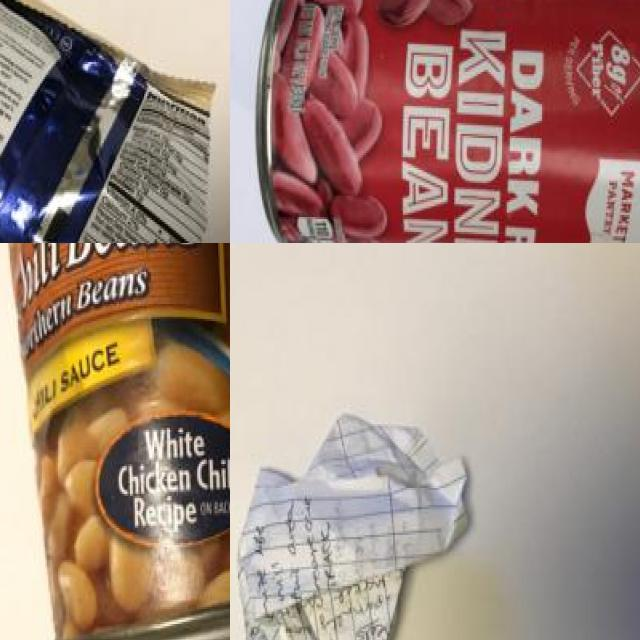paper: (236, 413, 487, 640)
plastic: (241, 0, 640, 243), (0, 243, 230, 640)
trash: (0, 0, 217, 243)
